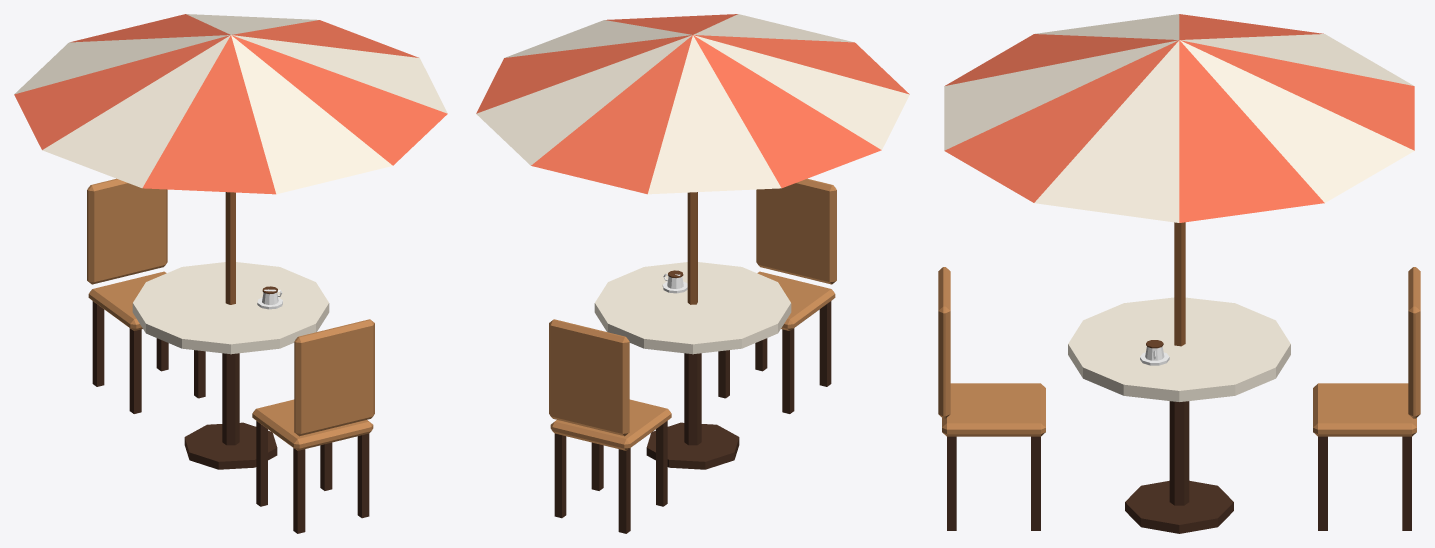
Rendered from prop_cafe_table.glb.
The picture shows the model from 3 angles, left to right: view 1: azimuth 30°, elevation 25°; view 2: azimuth 150°, elevation 25°; view 3: azimuth 270°, elevation 25°; orthographic projection. The views are drawn at different scales.
Visible parts, largest first — view 1: prop_cafe_table; view 2: prop_cafe_table; view 3: prop_cafe_table.
Boxes of the visible parts, x1=… form: prop_cafe_table: x1=14, y1=14, x2=447, y2=533; prop_cafe_table: x1=476, y1=14, x2=909, y2=533; prop_cafe_table: x1=938, y1=14, x2=1420, y2=533.
Bounding box in the file's own units: 2 × 2.1 × 1.95.
